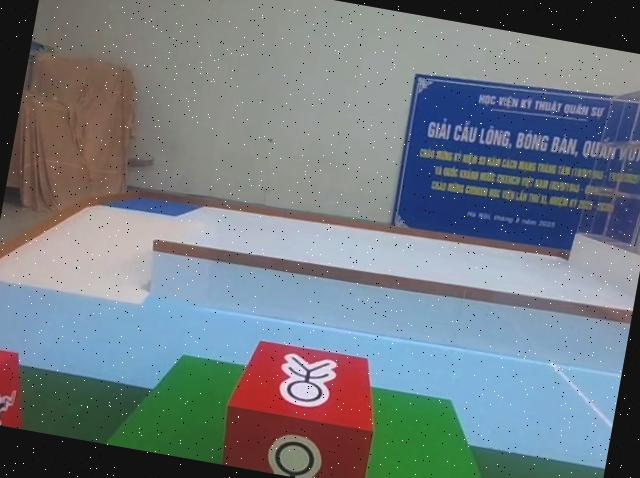R1: (0, 345, 30, 428)
R2 Real: (213, 328, 386, 478)
